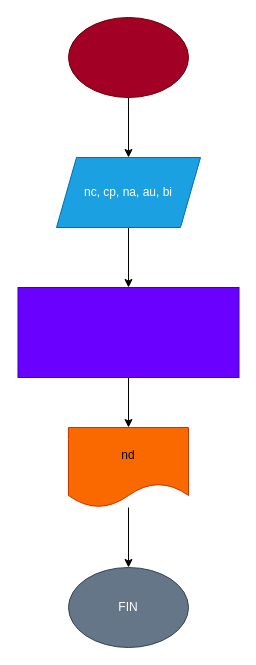
This 256x665 diagram has some shape labels left out. Each missing label, with the centre of its shape:
INICIO: pixel 128 57
nd: 0.3*nc+0.3*np+0.1*na+0.1*au+0.2*bi: pixel 128 332
